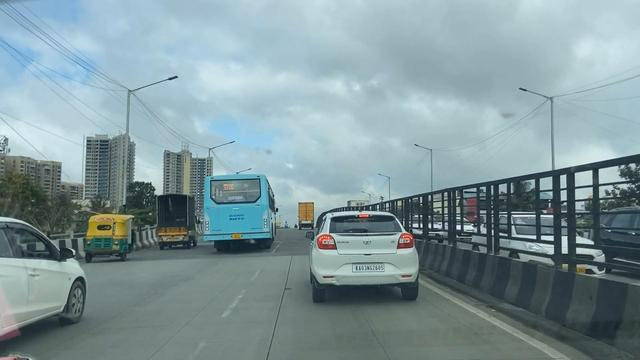HMV: (207, 165, 284, 253), (147, 179, 202, 253), (295, 197, 320, 234)
